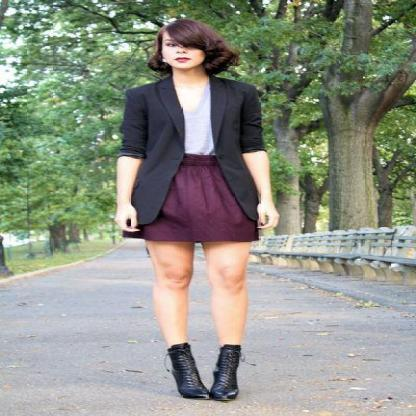jacket: (112, 72, 266, 238)
shirt: (175, 82, 213, 154)
shoe: (166, 343, 240, 402)
skirt: (146, 150, 268, 252)
